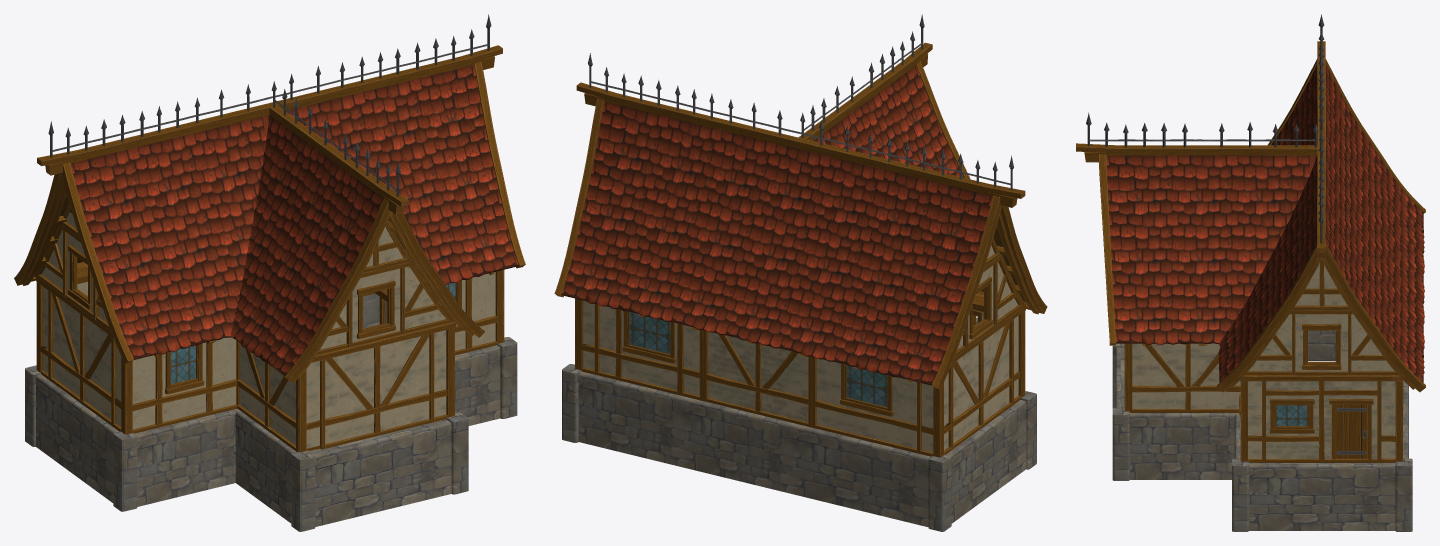
File: house_2x2_02_merged.gltf
3 views of the same model, side by side, from view 1: azimuth 30°, elevation 25°; view 2: azimuth 150°, elevation 25°; view 3: azimuth 270°, elevation 25° (orthographic). The views are drawn at different scales.
Visible parts, largest first — view 1: House_2x2_02_Merged; view 2: House_2x2_02_Merged; view 3: House_2x2_02_Merged.
Part boxes in pixels (left/top/right/bottom): House_2x2_02_Merged: left=14, top=14, right=525, bottom=531; House_2x2_02_Merged: left=554, top=14, right=1047, bottom=531; House_2x2_02_Merged: left=1076, top=14, right=1425, bottom=531.
Size of the model in its own units: 20.47 by 15.29 by 14.66.
9 materials, 9 textured.
